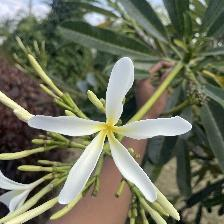champaka: (28, 57, 196, 208)
